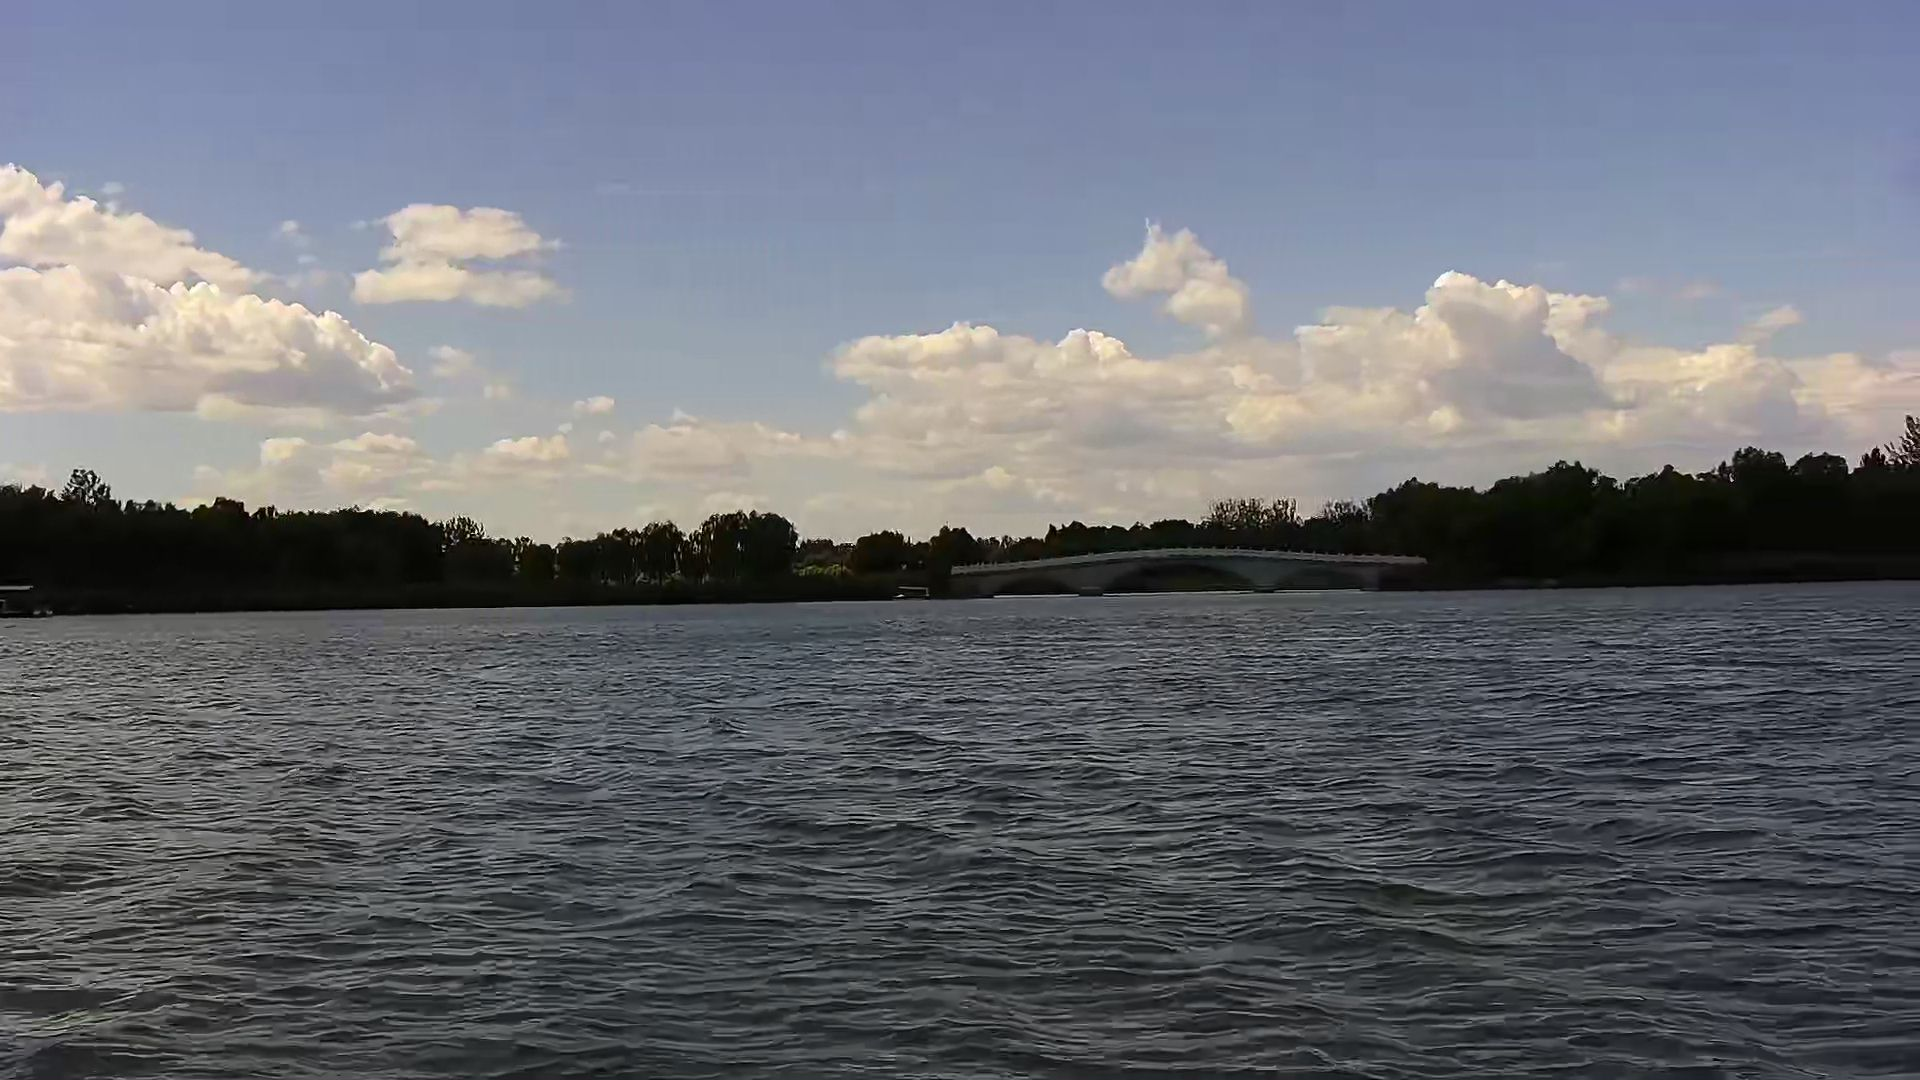bridge: (947, 545, 1425, 601)
